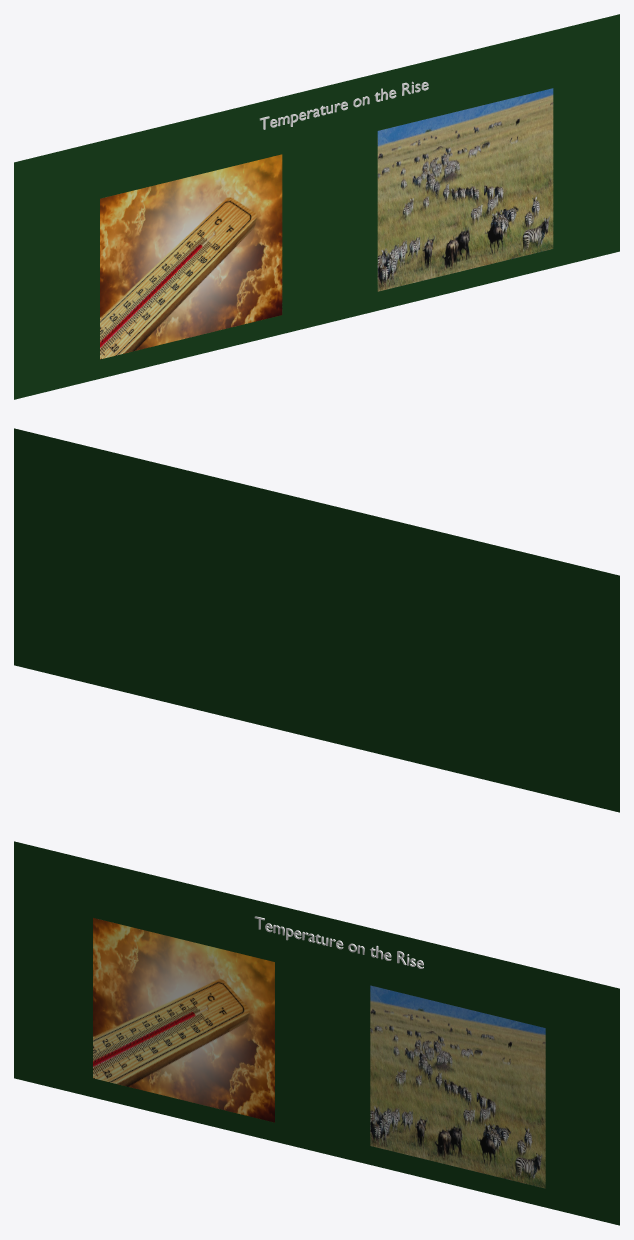
The model's file is cons2.gltf.
The picture shows the model from 3 angles, top to bottom: view 1: azimuth 30°, elevation 25°; view 2: azimuth 150°, elevation 25°; view 3: azimuth 330°, elevation 25°; orthographic projection.
Visible parts, largest first — view 1: Plane.013, Plane, Plane.001, Text.008; view 2: Plane.013; view 3: Plane.013, Plane, Plane.001, Text.008.
Part boxes in pixels (x1,y1,x2,y2): Plane.013: (14,14,619,399); Plane: (100,154,282,359); Plane.001: (377,88,553,291); Text.008: (259,81,428,129); Plane.013: (14,428,619,812); Plane.013: (14,841,619,1225); Plane: (93,918,274,1122); Plane.001: (370,985,545,1188); Text.008: (254,916,423,968).
Size of the model in its own units: 15.94 by 5.96 by 0.1767.
Materials: 4 (2 with a texture image).
